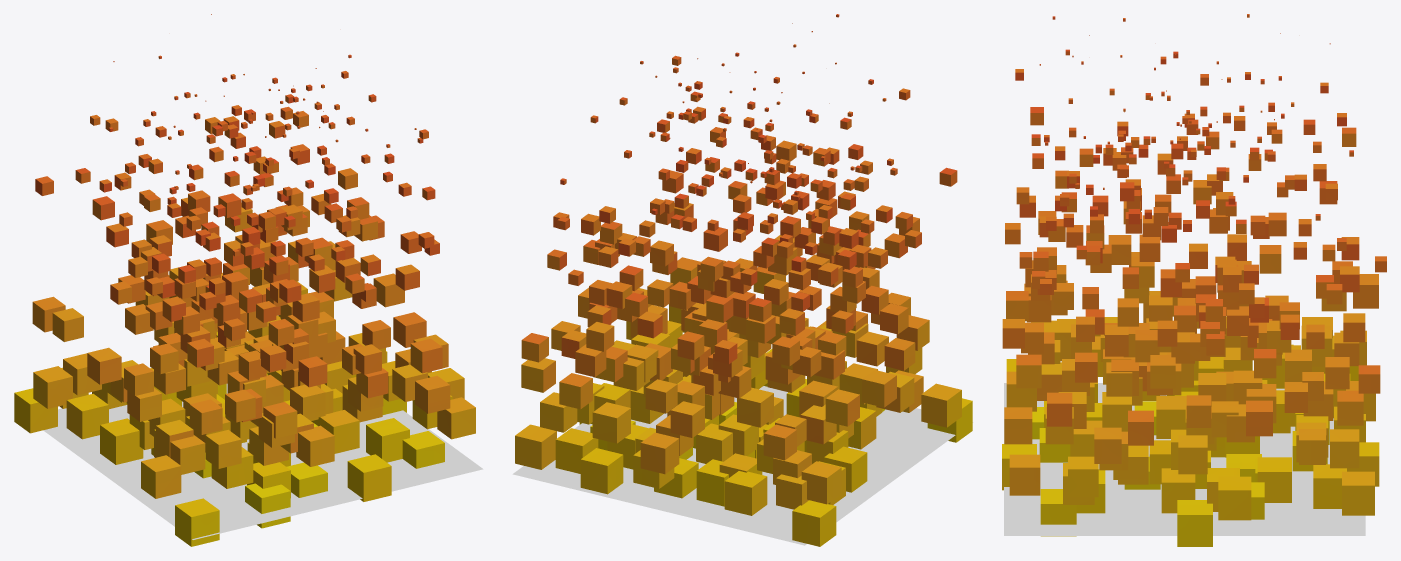
The model's file is flame.gltf.
The picture shows the model from 3 angles, left to right: view 1: azimuth 30°, elevation 25°; view 2: azimuth 150°, elevation 25°; view 3: azimuth 270°, elevation 25°; orthographic projection. The views are drawn at different scales.
Visible parts, largest first — view 1: fire_particle.320, fire_emitter; view 2: fire_particle.320, fire_emitter; view 3: fire_particle.320, fire_emitter.
Part boxes in pixels (x1=…): fire_particle.320: x1=14, y1=14, x2=475, y2=546; fire_emitter: x1=43, y1=383, x2=483, y2=539; fire_particle.320: x1=515, y1=14, x2=972, y2=546; fire_emitter: x1=512, y1=386, x2=973, y2=545; fire_particle.320: x1=1002, y1=14, x2=1386, y2=546; fire_emitter: x1=1004, y1=383, x2=1365, y2=535.
Size of the model in its own units: 1.08 by 1.35 by 1.06.
2 materials, 1 textured.
